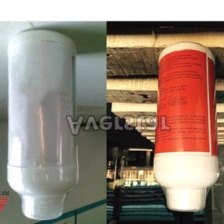insecticide: (3, 26, 81, 221), (151, 39, 221, 213)
